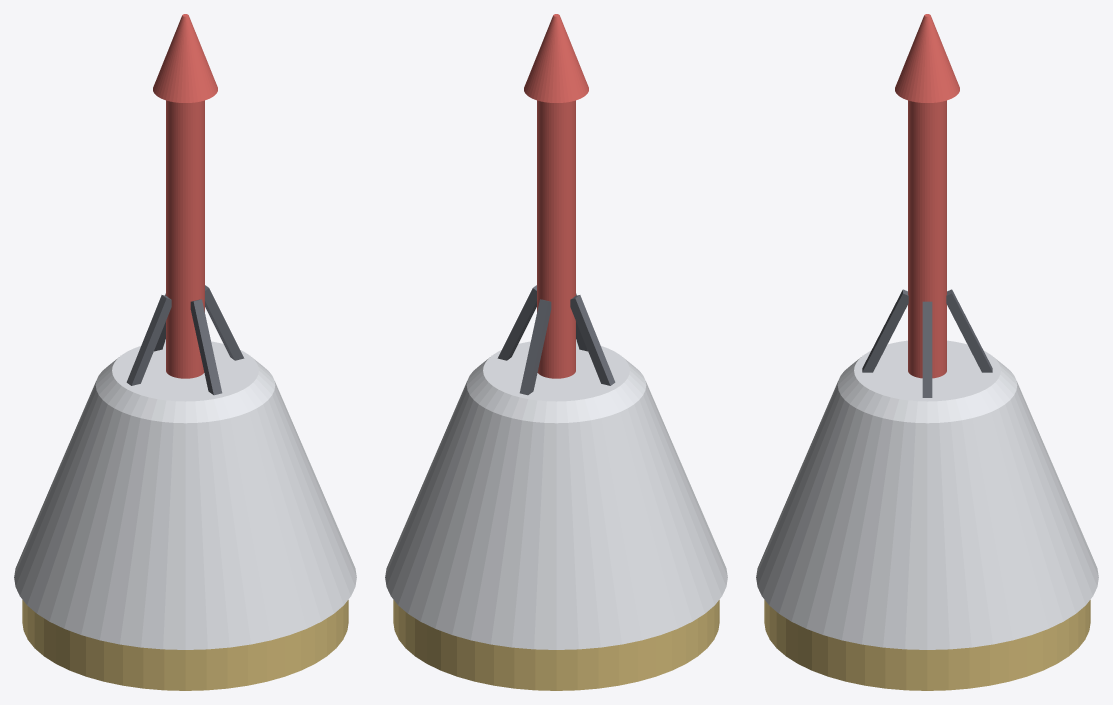
Rendered from nose_capsule.glb.
The picture shows the model from 3 angles, left to right: view 1: azimuth 30°, elevation 25°; view 2: azimuth 150°, elevation 25°; view 3: azimuth 270°, elevation 25°; orthographic projection.
Parts seen in each view (by area): view 1: nose_capsule_1, nose_capsule_0, nose_capsule_2, nose_capsule_3, nose_capsule_6, nose_capsule_7, nose_capsule_4; view 2: nose_capsule_1, nose_capsule_0, nose_capsule_2, nose_capsule_3, nose_capsule_6, nose_capsule_5, nose_capsule_4; view 3: nose_capsule_1, nose_capsule_0, nose_capsule_2, nose_capsule_3, nose_capsule_5, nose_capsule_7, nose_capsule_4.
Part boxes in pixels (x1,y1,x2,y2): nose_capsule_1: (14,340,356,649); nose_capsule_0: (22,600,348,690); nose_capsule_2: (166,100,204,378); nose_capsule_3: (153,14,217,102); nose_capsule_6: (126,295,171,385); nose_capsule_7: (190,299,222,395); nose_capsule_4: (205,285,244,360); nose_capsule_1: (385,340,727,649); nose_capsule_0: (393,600,719,690); nose_capsule_2: (537,100,575,378); nose_capsule_3: (524,14,588,102); nose_capsule_6: (570,295,615,385); nose_capsule_5: (519,299,551,395); nose_capsule_4: (497,285,536,360); nose_capsule_1: (756,340,1098,649); nose_capsule_0: (764,600,1090,690); nose_capsule_2: (908,100,946,378); nose_capsule_3: (895,14,959,102); nose_capsule_5: (946,289,992,372); nose_capsule_7: (862,289,908,372); nose_capsule_4: (922,301,932,397).
Bounding box in the file's own units: 2.1 × 4.1 × 2.1.
